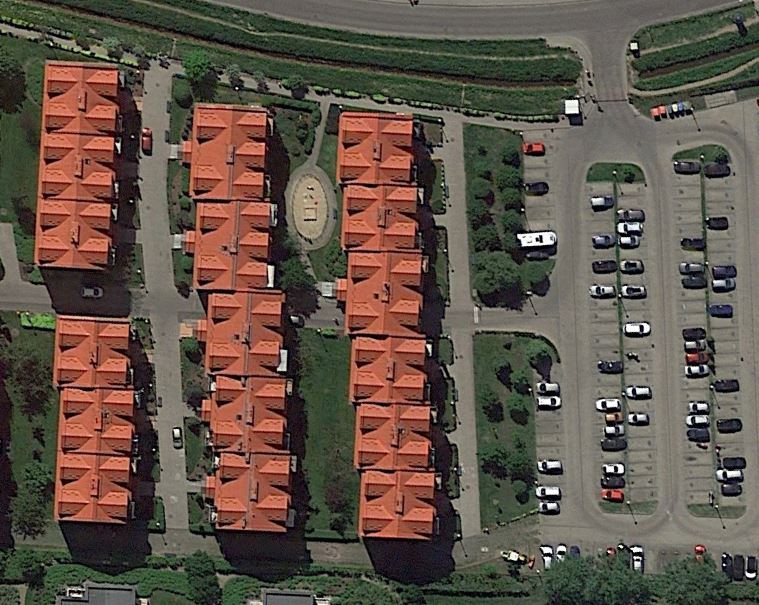terrace house: (184, 99, 300, 537), (329, 103, 442, 544), (32, 60, 124, 273), (51, 310, 137, 526)
